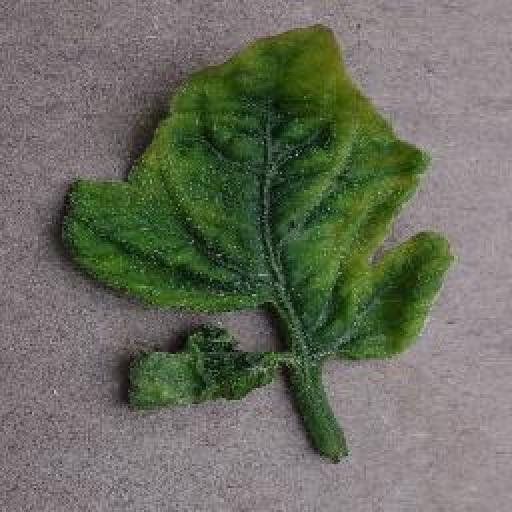Yellow Leaf Curl Virus: (60, 23, 452, 360)
